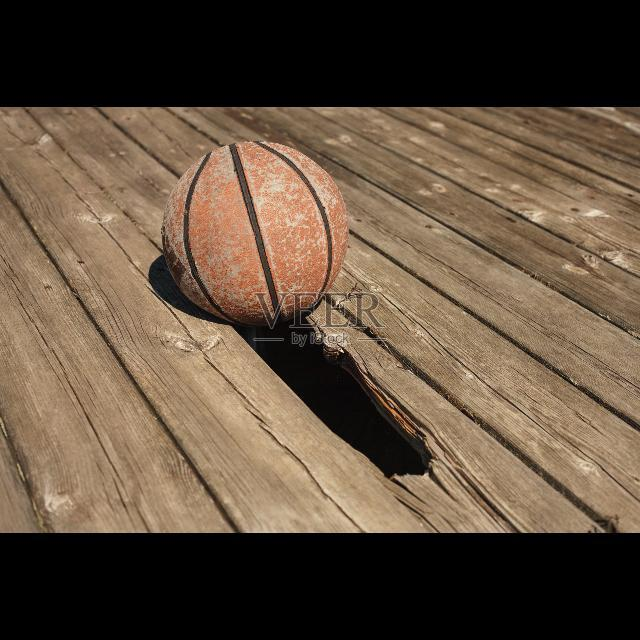basketball: (163, 140, 349, 328)
